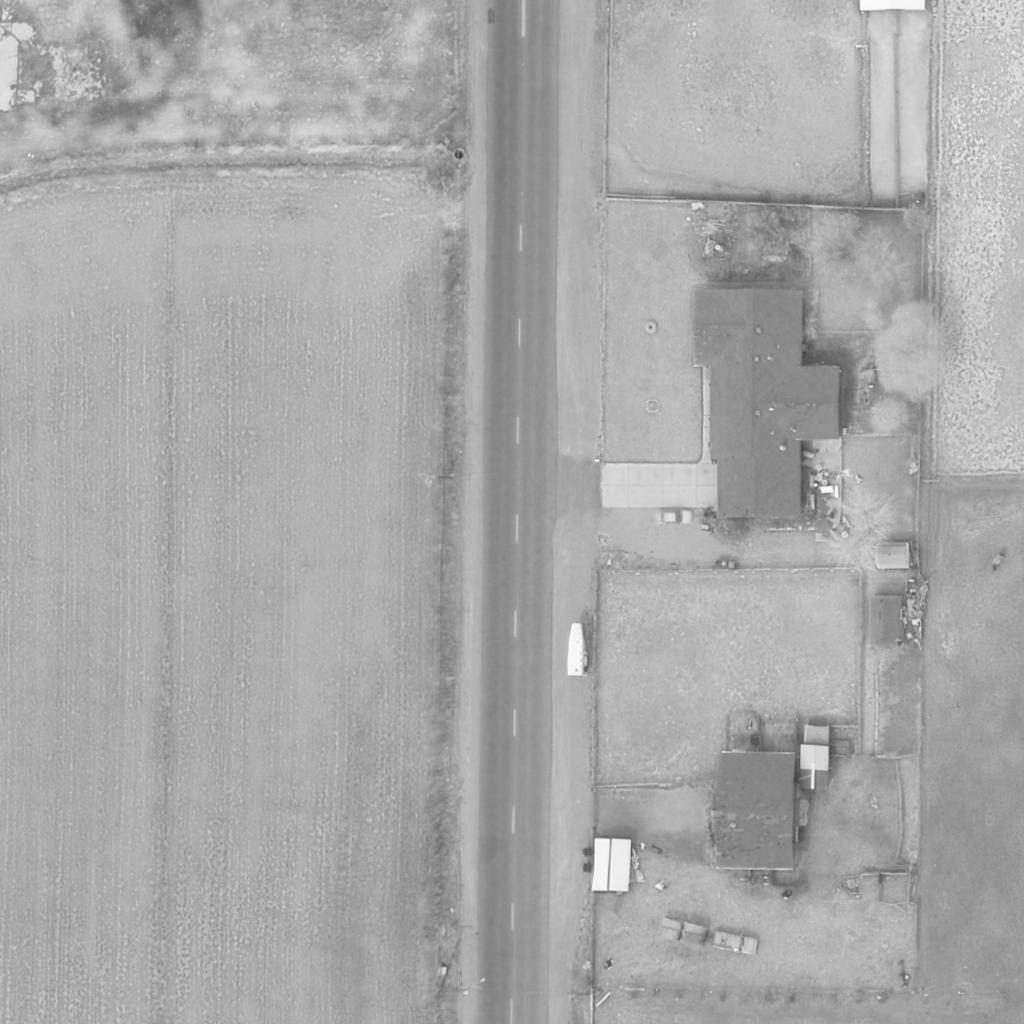vehicle: (712, 931, 760, 955), (655, 509, 695, 525)
